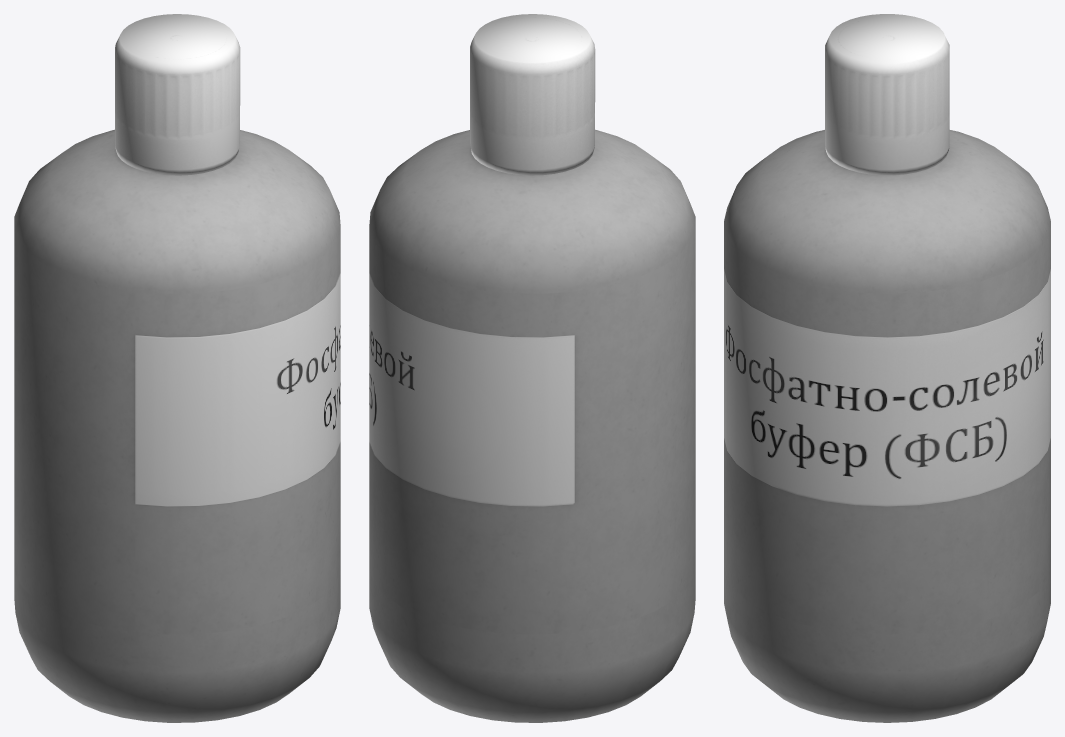
Rendered from bottle_1.fbx.
3 renders of one model, left to right at view 1: azimuth 30°, elevation 25°; view 2: azimuth 150°, elevation 25°; view 3: azimuth 270°, elevation 25°, orthographic.
Parts seen in each view (by area): view 1: Bottle_1, Cap_1; view 2: Bottle_1, Cap_1; view 3: Bottle_1, Cap_1.
Boxes of the visible parts, left/top/right/bottom form: Bottle_1: left=14, top=129, right=340, bottom=722; Cap_1: left=115, top=14, right=240, bottom=175; Bottle_1: left=369, top=129, right=695, bottom=722; Cap_1: left=470, top=14, right=595, bottom=175; Bottle_1: left=724, top=130, right=1050, bottom=722; Cap_1: left=825, top=14, right=949, bottom=175.
Size of the model in its own units: 4.8 by 10.37 by 4.8.
